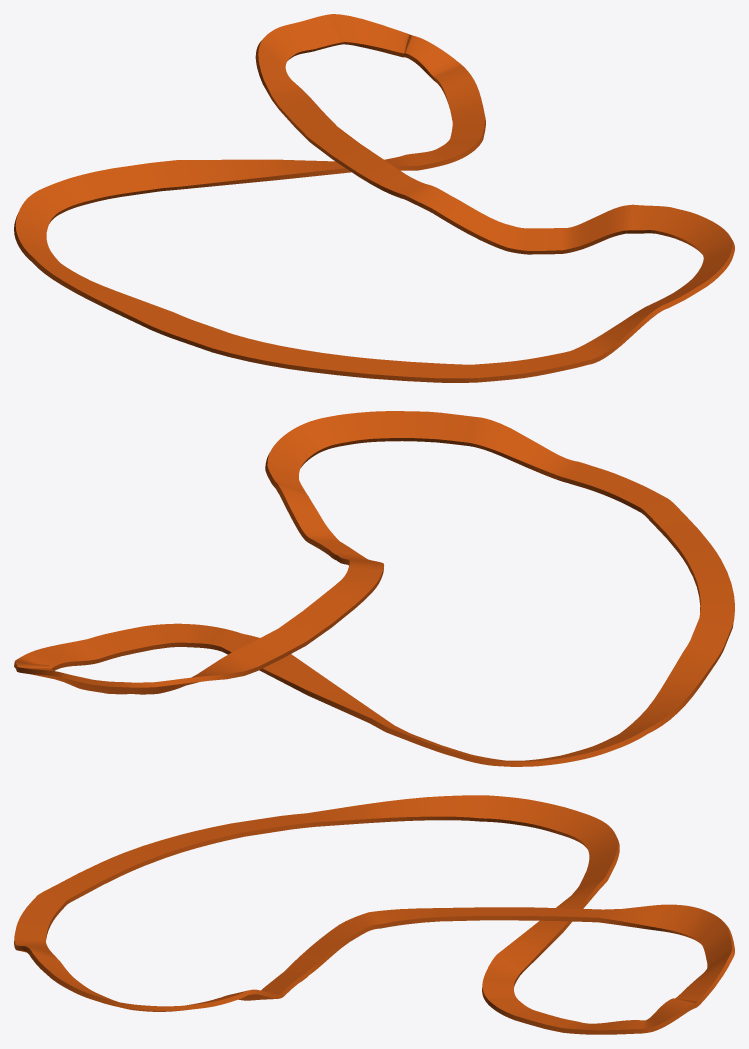
Rendered from smooth.fbx.
3 views of the same model, one above another, from view 1: azimuth 30°, elevation 25°; view 2: azimuth 150°, elevation 25°; view 3: azimuth 270°, elevation 25° (orthographic). The views are drawn at different scales.
Visible parts, largest first — view 1: Sweep; view 2: Sweep; view 3: Sweep.
Part boxes in pixels (box(x1,y1,x2,y2)): Sweep: box(14, 14, 734, 382); Sweep: box(14, 411, 734, 766); Sweep: box(14, 795, 734, 1034).
Size of the model in its own units: 3642 by 422 by 4569.
